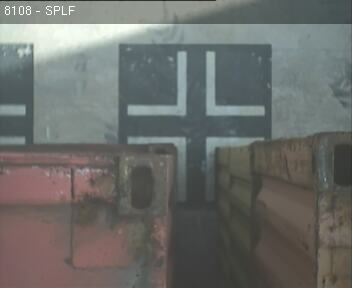groundmarker_1: (127, 50, 265, 115), (126, 136, 264, 201)
